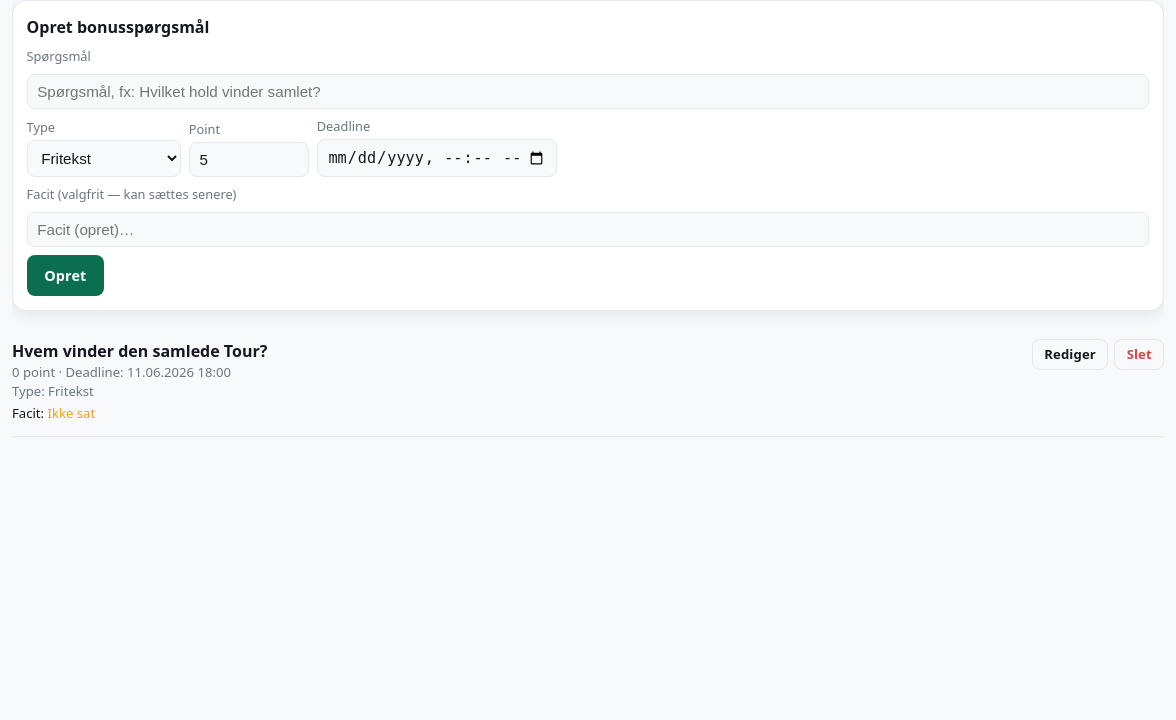
Test: BonusTab › lukker redigering via Annullér
Click the button "Rediger" at [1070, 354], box [1032,339,1108,370]
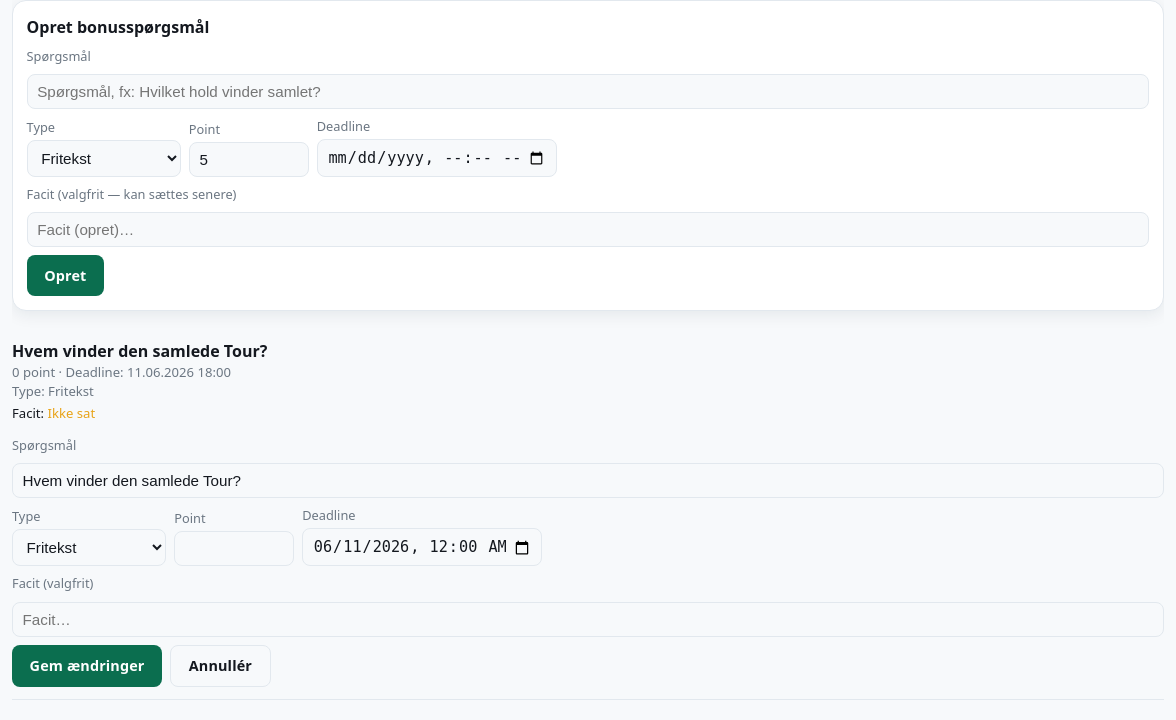
Click the button "Annullér" at [220, 666], box [170,644,271,687]
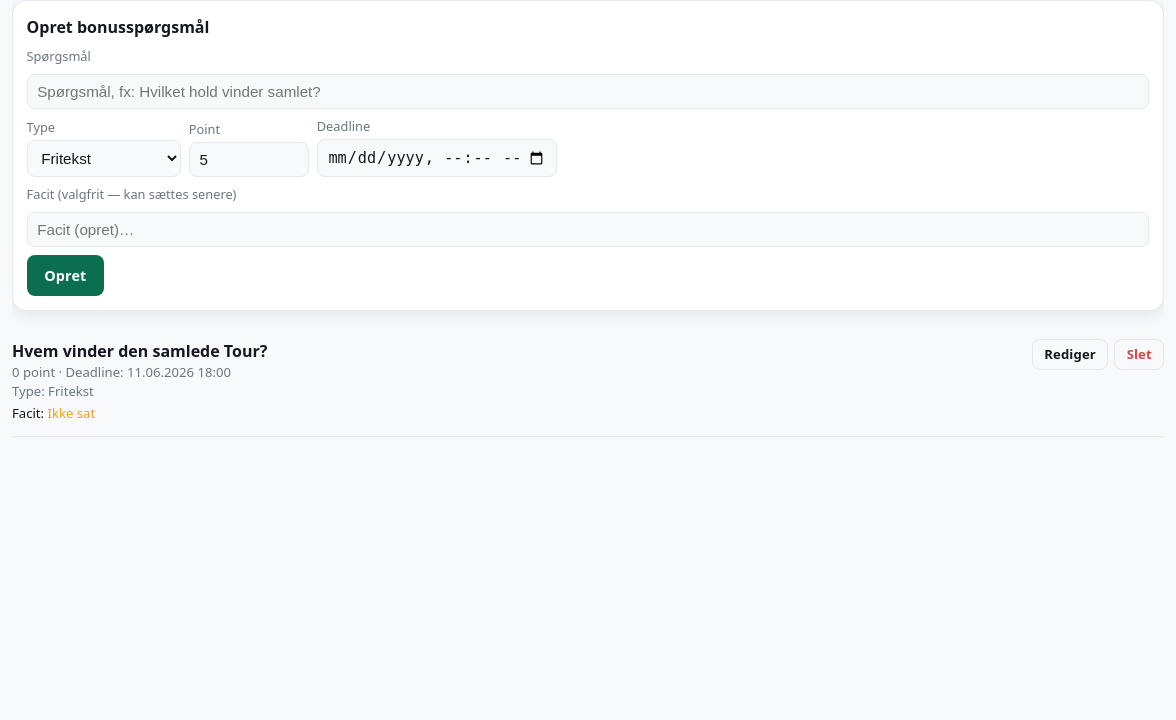
Result: the element with test id "bonus-edit-form" is gone
